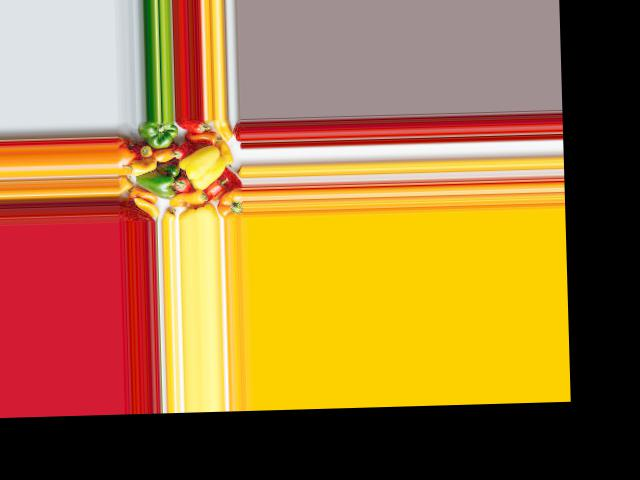bell_pepper: (179, 119, 211, 137)
